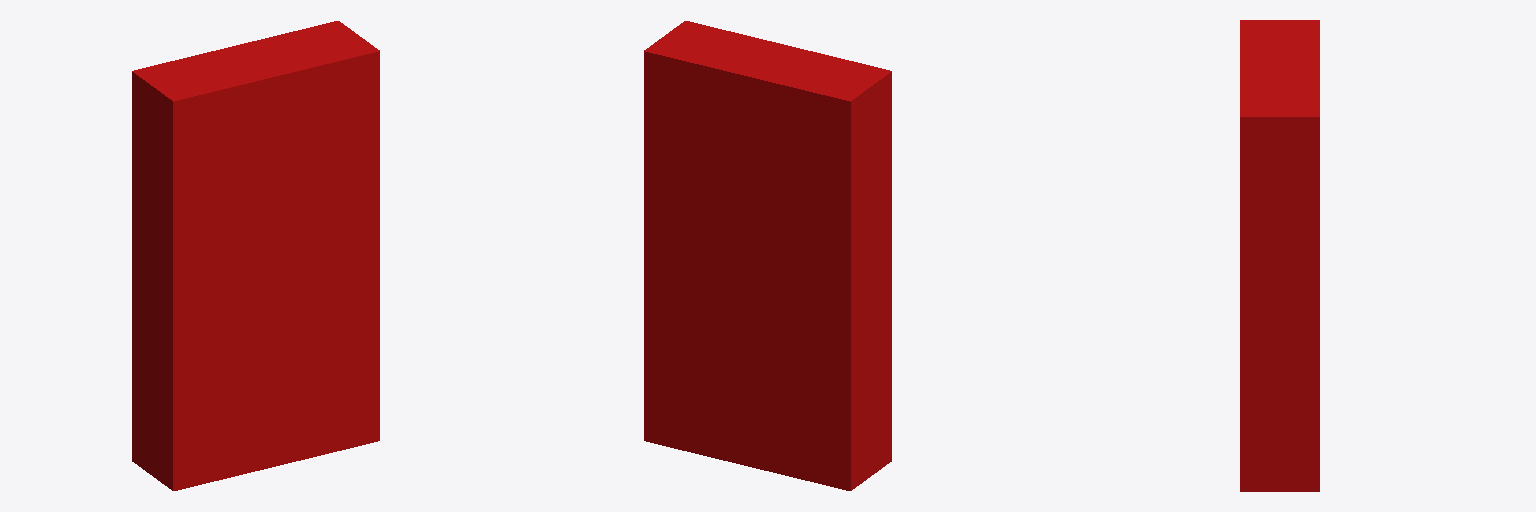
URDF robot description (big_robot_toy):
<?xml version="1.0"?>
<robot name="big_robot_toy">
  <link name="base_link">
    <inertial>
      <origin xyz="0 0 0" rpy="0 0 0" />
      <mass value="0.1" />
      <inertia ixx="0.000363" ixy="0" ixz="0" iyy="0.000363" iyz="0"
          izz="0.00006" />
    </inertial>
    <visual>
      <origin xyz="0 0 0" rpy="0 0 0" />
      <geometry>
        <box size="0.1 0.035 0.18" />
      </geometry>
      <material name="red">
        <color rgba="0.8 0.1 0.1 1.0" />
      </material>
    </visual>

    <!--
      This places contact spheres on the corners of the visual box and a
      *slightly* smaller inset contact box (centered on the visual origin). This
      accounts for issues in the contact computation providing stable table
      contact *and* supports grasping.

      When the box is in stable contact with the ground plane, the corner
      spheres will provide fixed contact points (simulating distributed contact
      points around the face).  However, for arbitrary grip configuration, the
      slightly inset box will provide contact with a *slight* offset (in this
      case a deviation of 0.0005 m from the visual surface).

      https://github.com/RobotLocomotion/drake/issues/6254 tracks the
      difficulty in supporting face-to-face contact.
     -->
    <collision>
      <geometry>
        <box size="0.099 0.034 0.179" />
      </geometry>
    </collision>

    <collision>
      <origin xyz="-0.05 -0.0175 -0.09" rpy="0 0 0"/>
      <geometry>
        <sphere radius="1e-7"/>
      </geometry>
    </collision>
    <collision>
      <origin xyz="-0.05 0.0175 -0.09" rpy="0 0 0"/>
      <geometry>
        <sphere radius="1e-7"/>
      </geometry>
    </collision>
    <collision>
      <origin xyz="0.05 0.0175 -0.09" rpy="0 0 0"/>
      <geometry>
        <sphere radius="1e-7"/>
      </geometry>
    </collision>
    <collision>
      <origin xyz="0.05 -0.0175 -0.09" rpy="0 0 0"/>
      <geometry>
        <sphere radius="1e-7"/>
      </geometry>
    </collision>

    <collision>
      <origin xyz="-0.05 -0.0175 0.09" rpy="0 0 0"/>
      <geometry>
        <sphere radius="1e-7"/>
      </geometry>
    </collision>
    <collision>
      <origin xyz="-0.05 0.0175 0.09" rpy="0 0 0"/>
      <geometry>
        <sphere radius="1e-7"/>
      </geometry>
    </collision>
    <collision>
      <origin xyz="0.05 0.0175 0.09" rpy="0 0 0"/>
      <geometry>
        <sphere radius="1e-7"/>
      </geometry>
    </collision>
    <collision>
      <origin xyz="0.05 -0.0175 0.09" rpy="0 0 0"/>
      <geometry>
        <sphere radius="1e-7"/>
      </geometry>
    </collision>

   </link>
</robot>

--- What the picture shows (computed from the rendered views, not written in the file) ---
The picture shows the robot from 3 angles, left to right: view 1: azimuth 30°, elevation 25°; view 2: azimuth 150°, elevation 25°; view 3: azimuth 270°, elevation 25°; orthographic projection.
Robot: big_robot_toy — 1 links, 0 joints (none); root link base_link; default pose: all joints at 0.
Links seen in each view (by area): view 1: base_link; view 2: base_link; view 3: base_link.
Link boxes in pixels (x1=…): base_link: x1=132, y1=21, x2=379, y2=490; base_link: x1=644, y1=21, x2=891, y2=490; base_link: x1=1240, y1=20, x2=1319, y2=491.
Size in the robot's own frame: 0.1 by 0.035 by 0.18 metres.
Geometry: primitives only (box / cylinder / sphere), no mesh files.